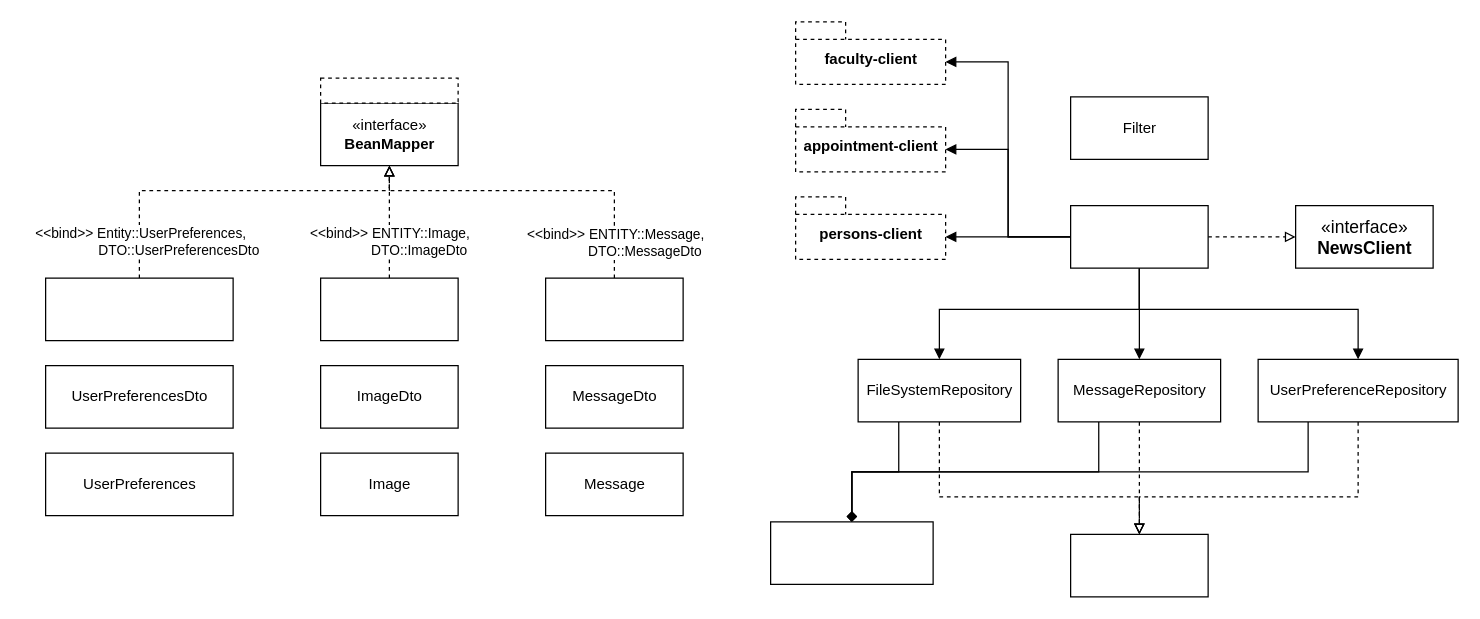
Some shapes in this 1480 by 619 pixel diagram are drawn without their labels. The shapes that lost their labels are listed below. From the top down, each one's centre as x and y in pixels, then its label:
(x=388, y=90): ENTITY, DTO
(x=1138, y=236): News
(x=138, y=309): «interface» UserPreferencesMapper
(x=388, y=309): «interface» ImageMapper
(x=613, y=309): «interface» MessageMapper
(x=851, y=552): Database
(x=1138, y=565): «interface» Repository
